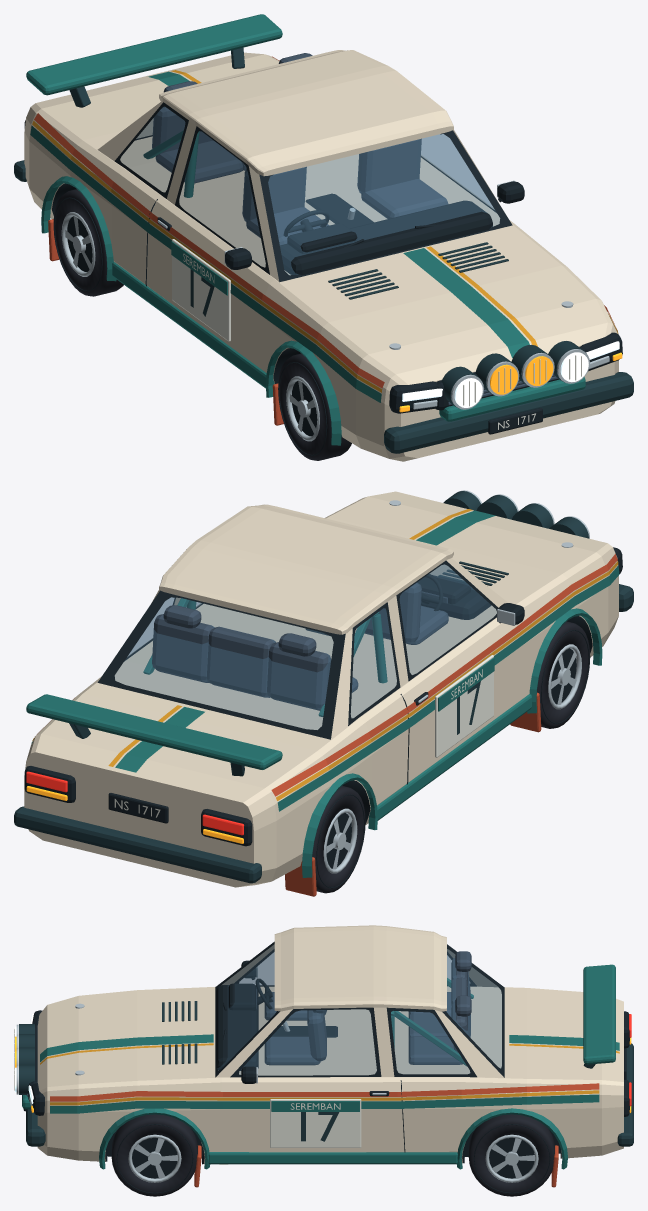
The picture shows the model from 3 angles, top to bottom: view 1: azimuth 30°, elevation 25°; view 2: azimuth 150°, elevation 25°; view 3: azimuth 270°, elevation 25°; orthographic projection. The views are drawn at different scales.
Parts seen in each view (by area): view 1: Seremban Stage Seventeen; view 2: Seremban Stage Seventeen; view 3: Seremban Stage Seventeen.
Boxes of the visible parts, box(x1,y1,x2,y2) form: Seremban Stage Seventeen: box(14, 14, 633, 461); Seremban Stage Seventeen: box(14, 490, 633, 896); Seremban Stage Seventeen: box(14, 925, 633, 1196).
Size of the model in its own units: 1.98 by 1.49 by 4.55.
